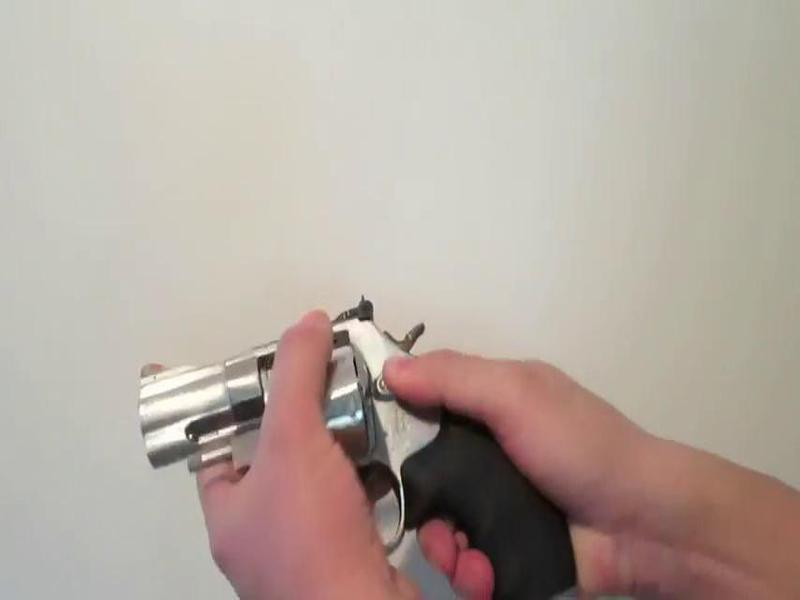Revolver: (133, 288, 567, 600)
